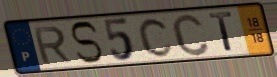5: (102, 15, 138, 63)
C: (169, 12, 212, 58), (137, 16, 176, 59)
R: (31, 25, 74, 66)
S: (68, 20, 105, 65)
T: (206, 10, 235, 53)
